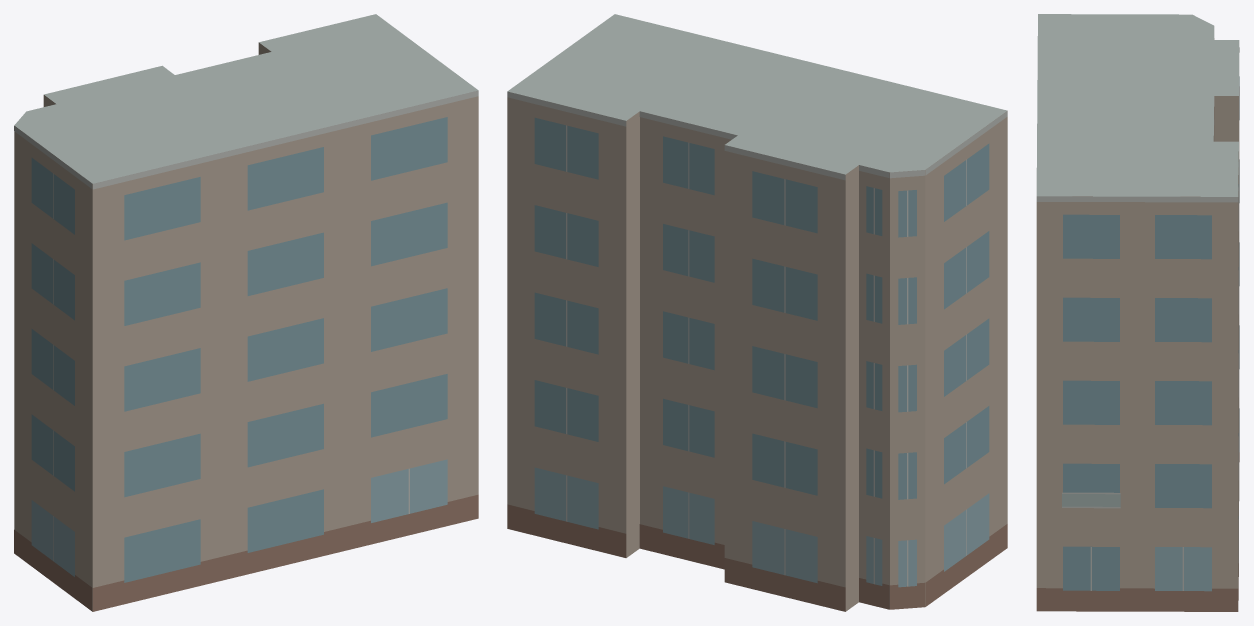
File: survey-upis-32638182.glb
3 renders of one model, left to right at view 1: azimuth 30°, elevation 25°; view 2: azimuth 150°, elevation 25°; view 3: azimuth 270°, elevation 25°, orthographic. The views are drawn at different scales.
Visible parts, largest first — view 1: survey-upis-32638182.tmp; view 2: survey-upis-32638182.tmp; view 3: survey-upis-32638182.tmp.
Part boxes in pixels (x1=…): survey-upis-32638182.tmp: x1=14, y1=14, x2=478, y2=611; survey-upis-32638182.tmp: x1=507, y1=14, x2=1007, y2=611; survey-upis-32638182.tmp: x1=1036, y1=14, x2=1239, y2=611.
Size of the model in its own units: 17.31 by 18.3 by 8.12.
